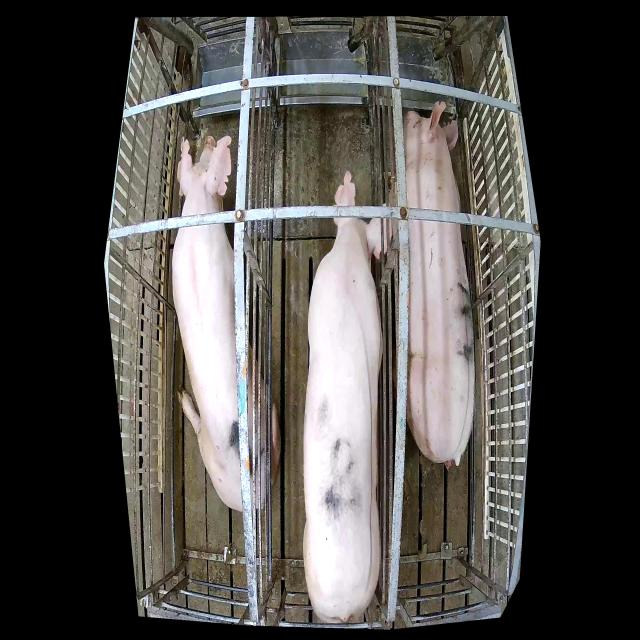pig: (304, 169, 393, 623), (173, 134, 279, 512), (402, 101, 475, 468)
